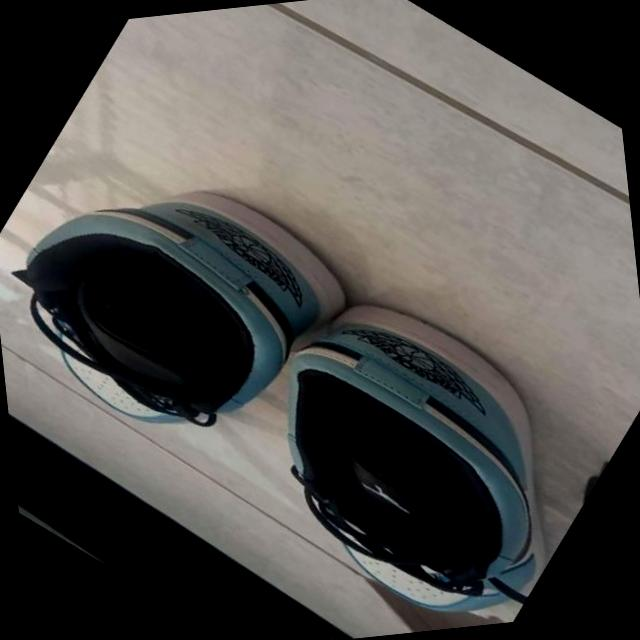nike_fake_jordan: (189, 243, 637, 640), (0, 91, 385, 498)
